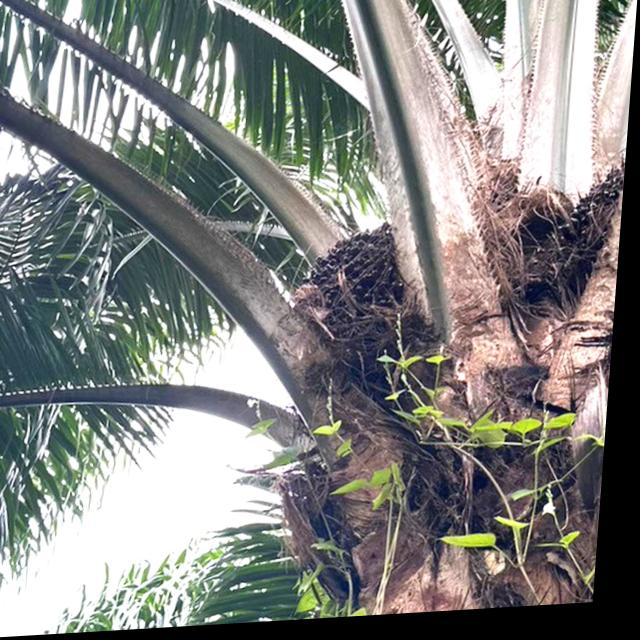ripe: (304, 219, 419, 334)
